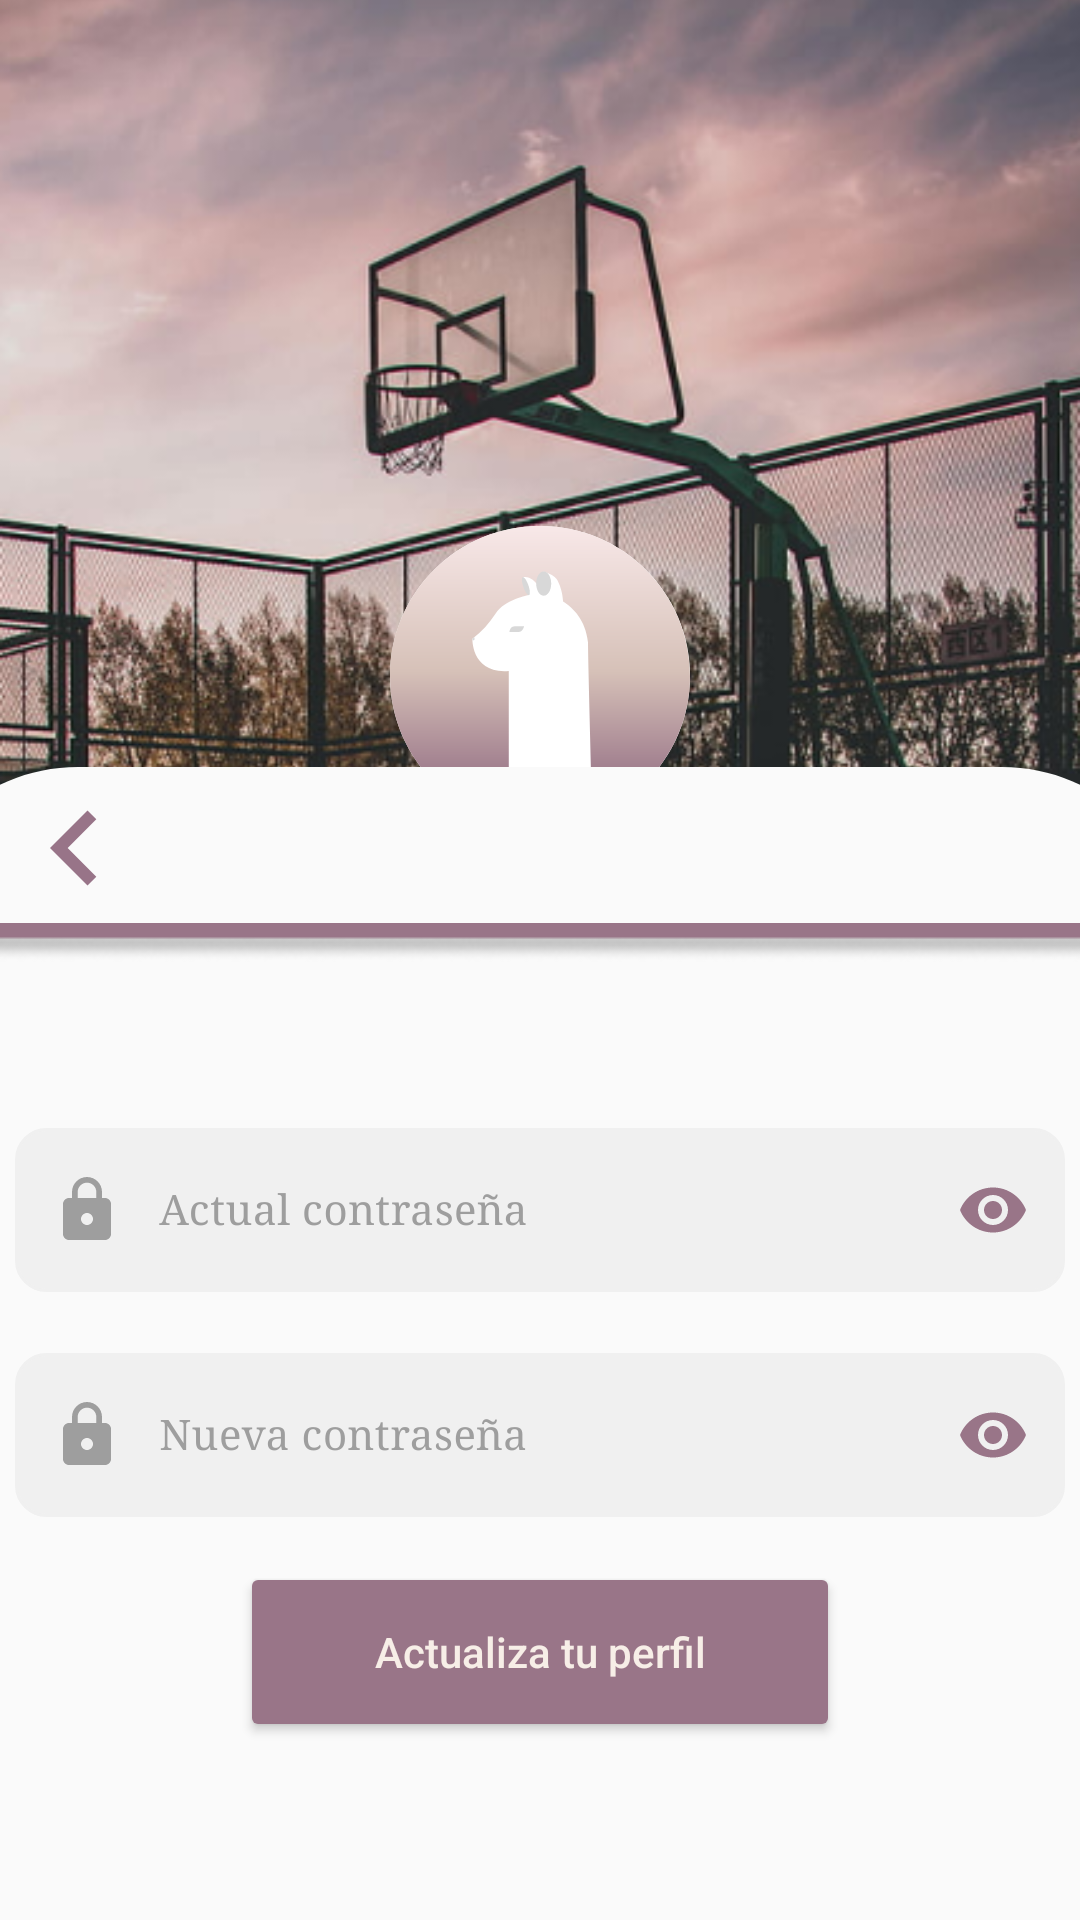

Icon click points for this 1080x1920 phone screenshot, format [x,y]:
alpaca: [540,676]
chevron left: [73,848]
